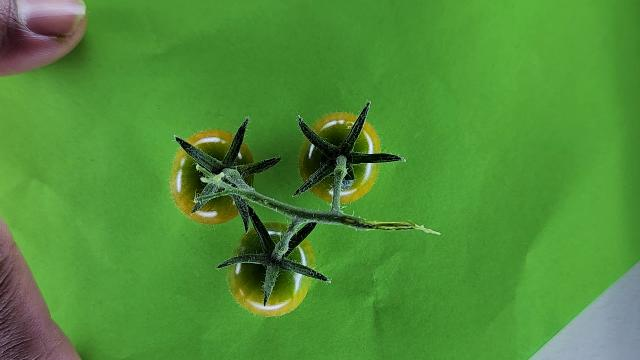Fully Grown: (226, 221, 316, 317), (169, 129, 255, 224), (299, 112, 383, 204)
